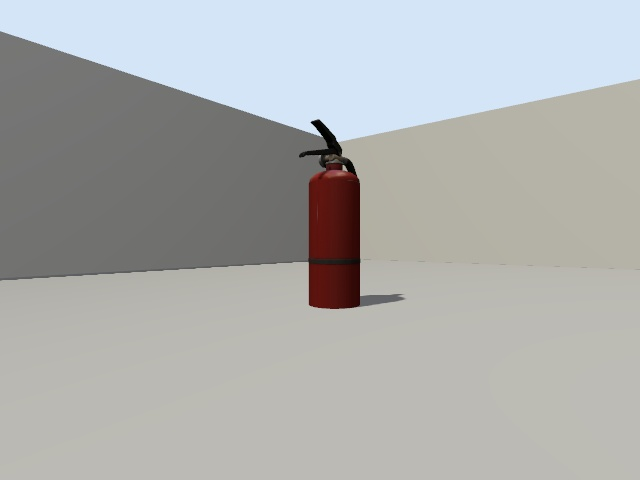extincteur: (299, 119, 360, 308)
